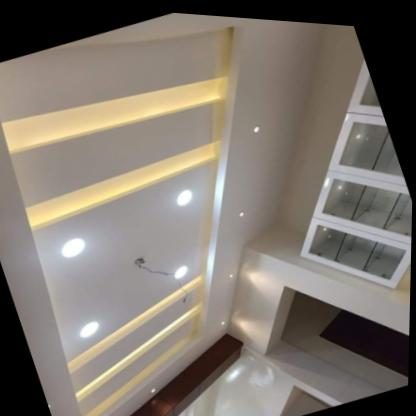Gypsum Board: (0, 0, 363, 416)
